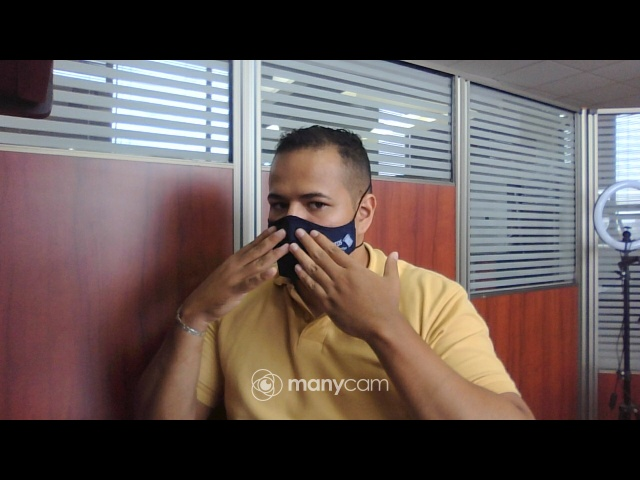Thanks: (180, 224, 424, 331)
